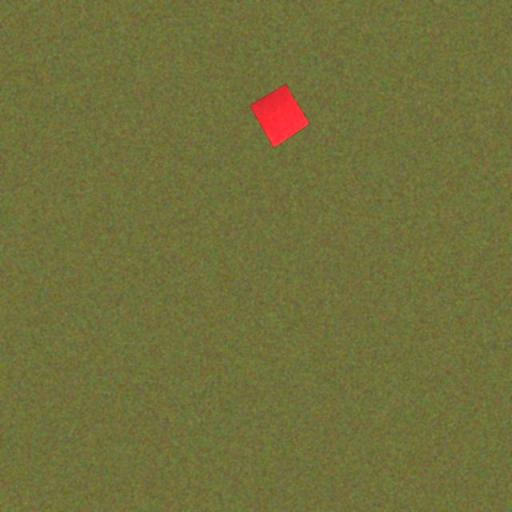RED_SQUARE: (249, 83, 310, 149)
